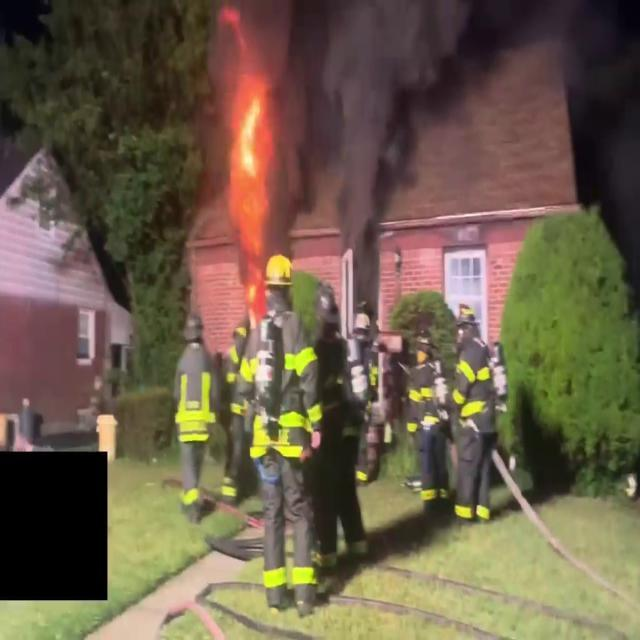Fire: (222, 69, 296, 290)
Smoke: (286, 0, 456, 231)
